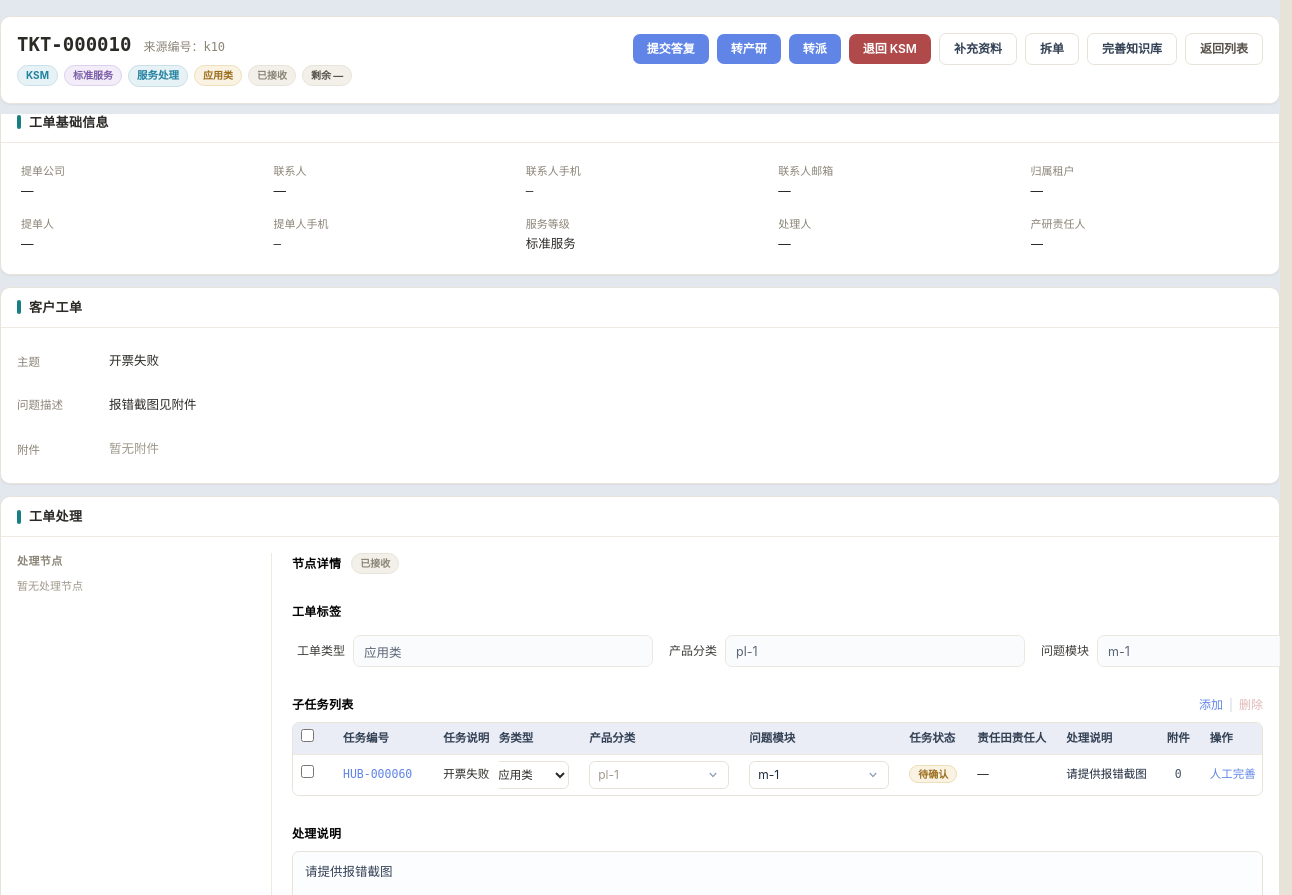
TicketDetailPage 补充资料按钮 › 点补充资料把处理说明当前内容提交给 request-supply
This screenshot has width=1292, height=895.
Click the button "补充资料": (978, 49) [939, 33, 1017, 65]
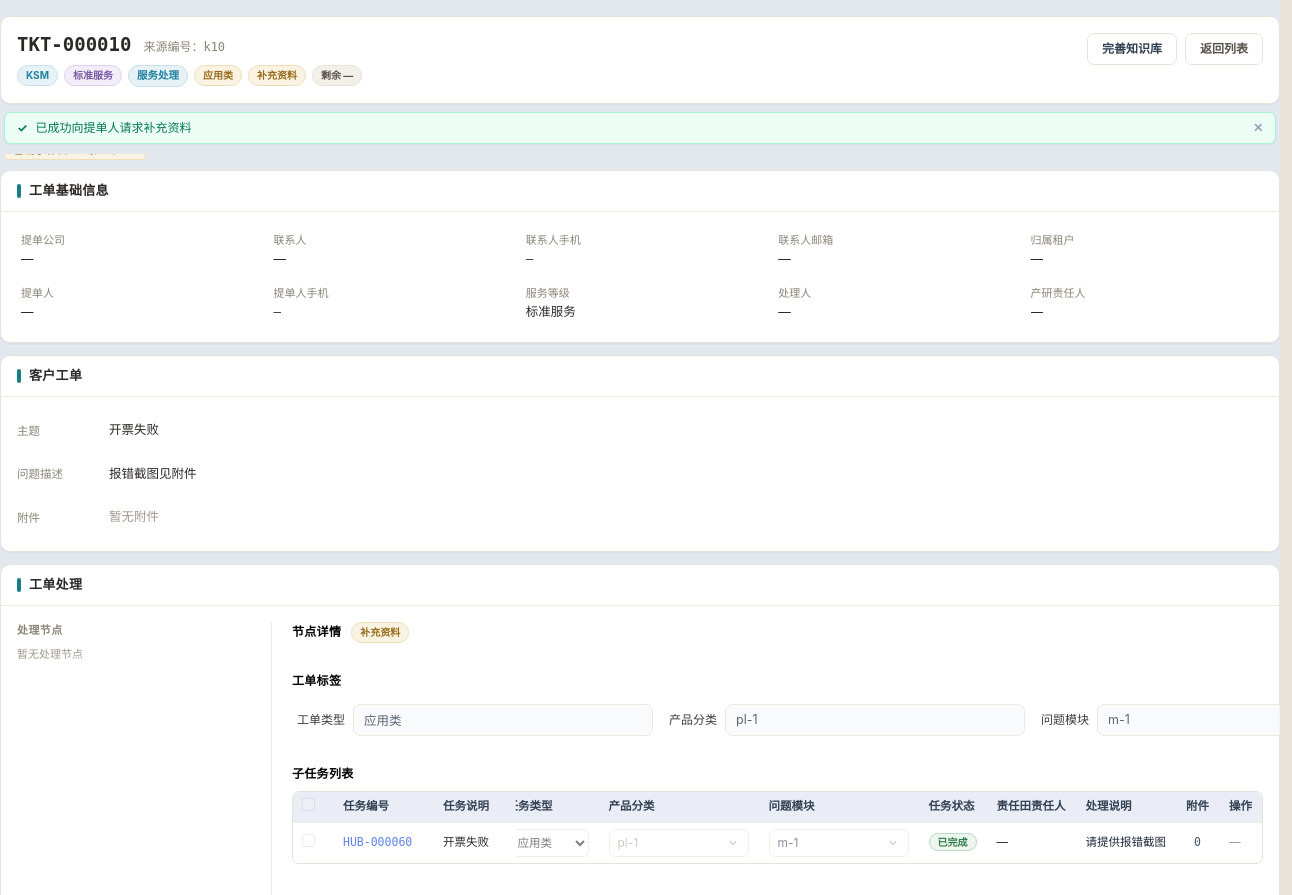
expect the button "请提供报错截图" is shown: met, box [1086, 834, 1166, 852]
expect the text "已请求补料：1 条工单 ✕" is shown: met, box [4, 140, 146, 160]
